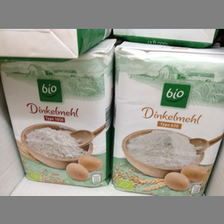flour: (113, 37, 222, 196), (1, 49, 113, 187)
